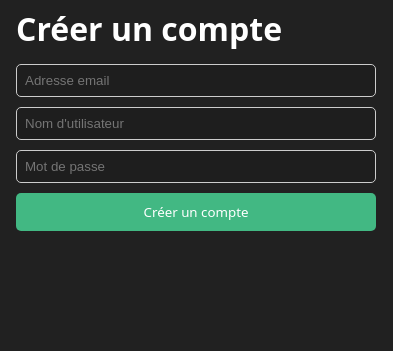
Test: Register.vue › should show error when username is not long enough
The width and height of the screenshot is (393, 351).
Step 1. Type "test@test.com" into the field with test id "register-email" → coordinates (196, 81), box x1=16 y1=64 x2=376 y2=97
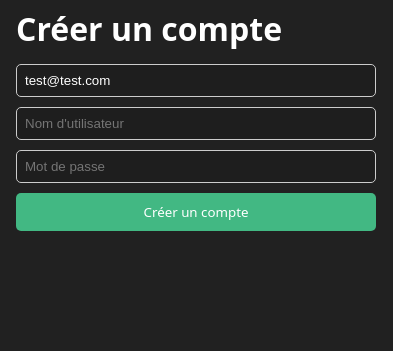
Step 2. Type "a" into the field with test id "register-username" → coordinates (196, 124), box x1=16 y1=107 x2=376 y2=140
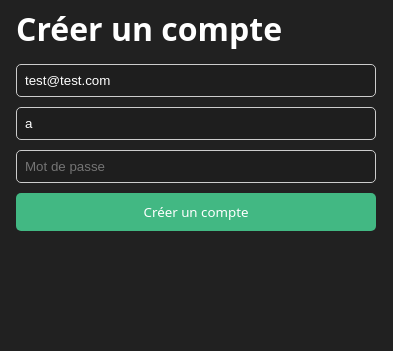
Step 3. Type "test" into the password field with test id "register-password" → coordinates (196, 167), box x1=16 y1=150 x2=376 y2=183
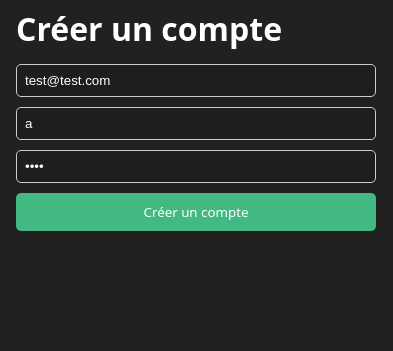
Step 4. Submit the form, box x1=16 y1=64 x2=376 y2=231
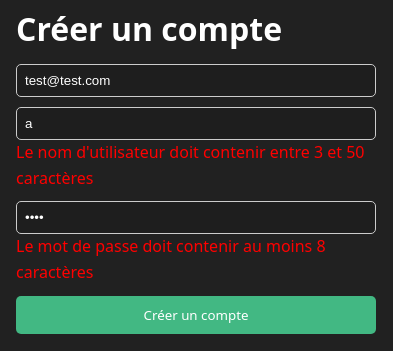
Expected: the text "Le nom d'utilisateur doit contenir entre 3 et 50 caractères" is shown, x1=16 y1=140 x2=376 y2=191
